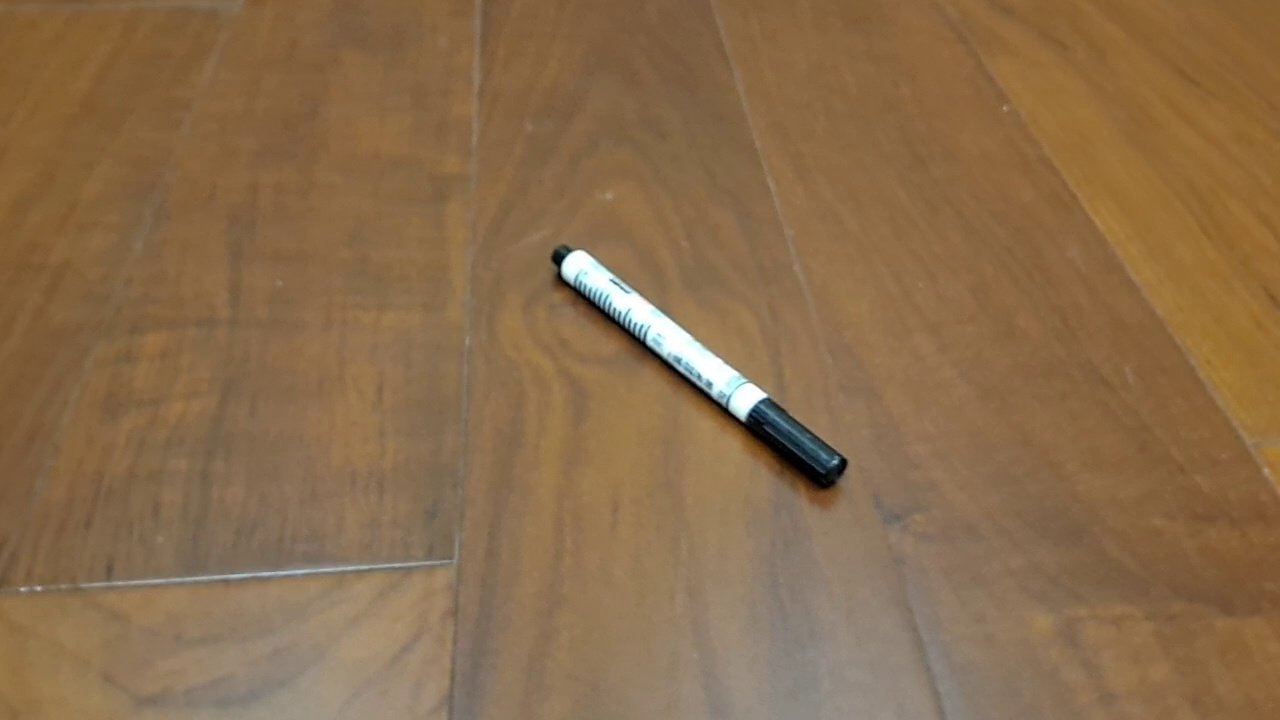pen: (549, 242, 849, 491)
